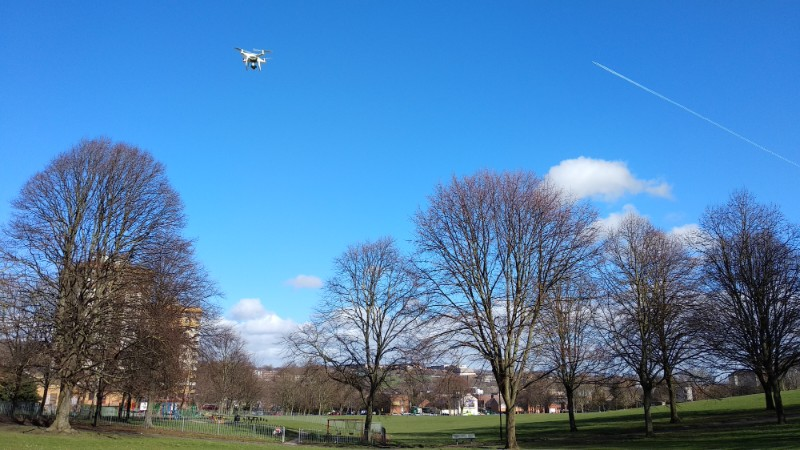drone: (234, 44, 273, 74)
